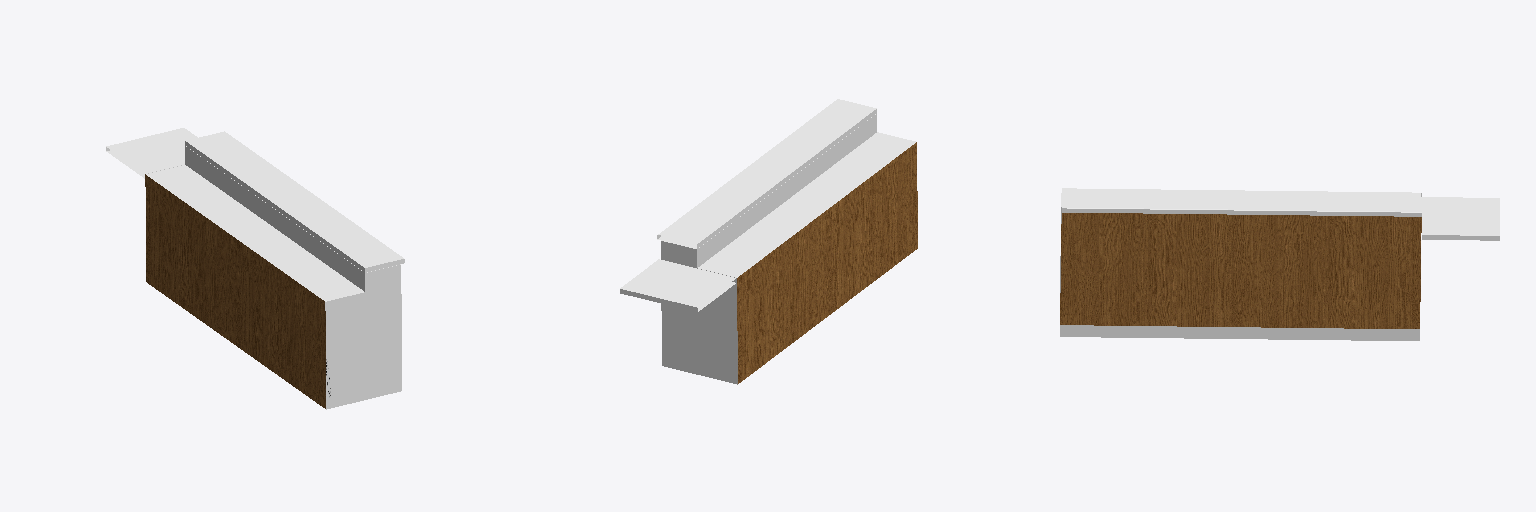
3 views of the same model, side by side, from view 1: azimuth 30°, elevation 25°; view 2: azimuth 150°, elevation 25°; view 3: azimuth 270°, elevation 25° (orthographic).
Parts seen in each view (by area): view 1: _ceiling_fixture_v1_l8:_ceiling_fixture_v1_l8:polySurface1344; view 2: _ceiling_fixture_v1_l8:_ceiling_fixture_v1_l8:polySurface1344; view 3: _ceiling_fixture_v1_l8:_ceiling_fixture_v1_l8:polySurface1344.
Boxes of the visible parts, x1,y1,x2,y2 form: _ceiling_fixture_v1_l8:_ceiling_fixture_v1_l8:polySurface1344: [106, 128, 404, 409]; _ceiling_fixture_v1_l8:_ceiling_fixture_v1_l8:polySurface1344: [620, 99, 917, 384]; _ceiling_fixture_v1_l8:_ceiling_fixture_v1_l8:polySurface1344: [1060, 188, 1499, 340].
Size of the model in its own units: 1.26 by 2.04 by 6.03.
8 materials, 2 textured.